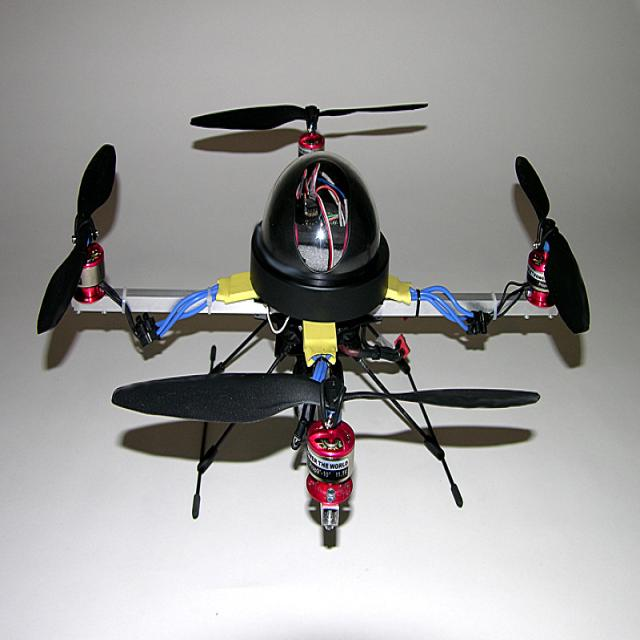drone: (30, 85, 614, 549)
